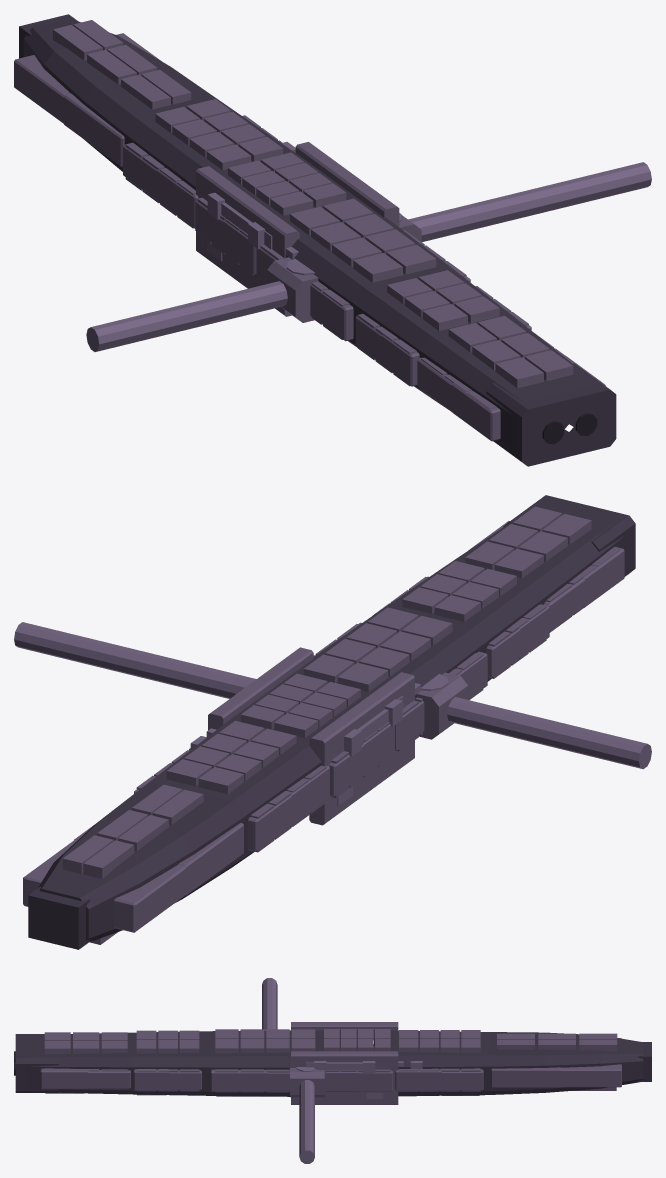
3 views of the same model, one above another, from view 1: azimuth 30°, elevation 25°; view 2: azimuth 150°, elevation 25°; view 3: azimuth 270°, elevation 25° (orthographic). The views are drawn at different scales.
Parts seen in each view (by area): view 1: RIMWARD_HULL; view 2: RIMWARD_HULL; view 3: RIMWARD_HULL.
Boxes of the visible parts, x1,y1,x2,y2 form: RIMWARD_HULL: (14,14,651,466); RIMWARD_HULL: (14,495,651,949); RIMWARD_HULL: (14,978,651,1163).
Size of the model in its own units: 4.7 by 0.64 by 7.35.
